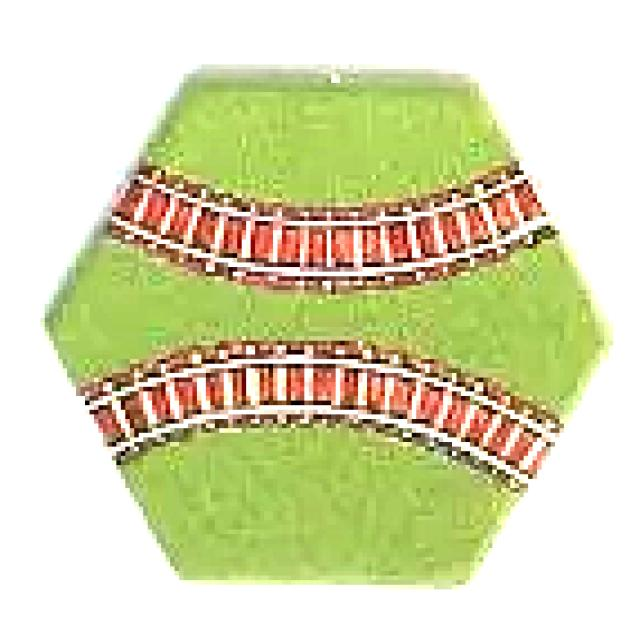6_0: (45, 65, 613, 590)
